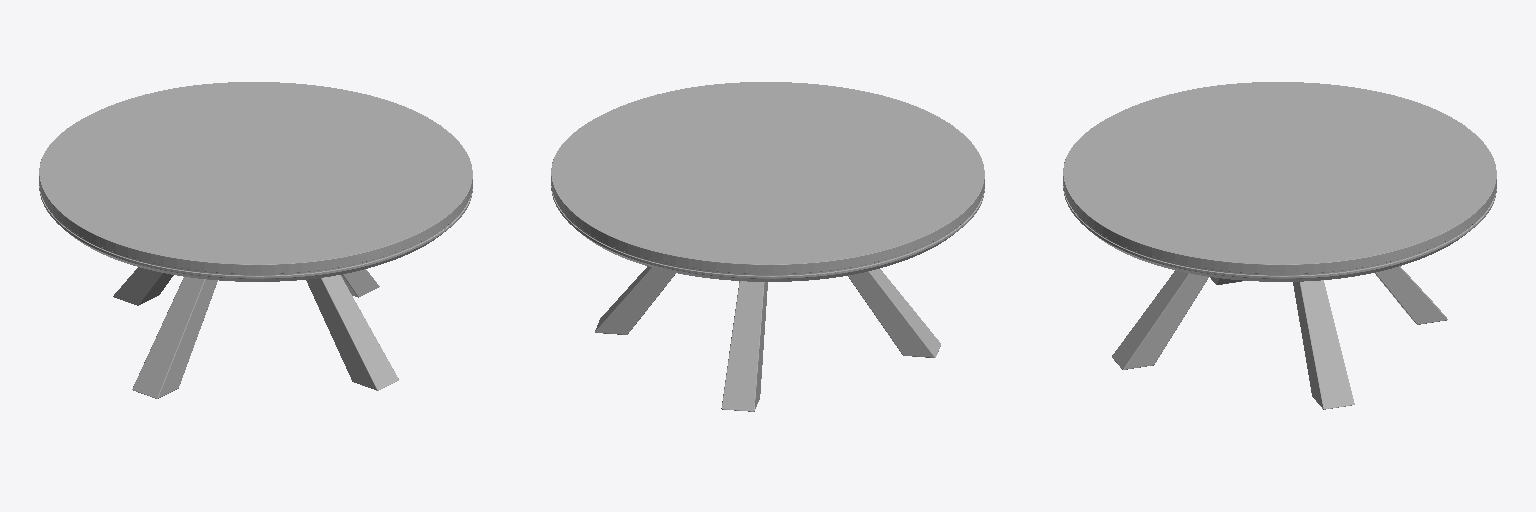
The picture shows the model from 3 angles: view 1: azimuth 30°, elevation 25°; view 2: azimuth 150°, elevation 25°; view 3: azimuth 270°, elevation 25°; orthographic projection.
Visible parts, largest first — view 1: NGon002, Rectangle071, Rectangle069, Rectangle070, Object009, Rectangle072; view 2: NGon002, Rectangle070, Rectangle071, Rectangle072, Object009; view 3: NGon002, Rectangle072, Rectangle069, Rectangle070, Object009.
Part boxes in pixels (bbox=[...]): NGon002: bbox=[39, 82, 472, 278]; Rectangle071: bbox=[132, 277, 217, 398]; Rectangle069: bbox=[306, 275, 398, 390]; Rectangle070: bbox=[113, 267, 173, 305]; Object009: bbox=[66, 231, 441, 281]; Rectangle072: bbox=[341, 269, 379, 297]; NGon002: bbox=[551, 82, 984, 278]; Rectangle070: bbox=[721, 281, 767, 411]; Rectangle071: bbox=[848, 269, 940, 357]; Rectangle072: bbox=[595, 266, 675, 334]; Object009: bbox=[578, 231, 953, 281]; NGon002: bbox=[1063, 82, 1496, 278]; Rectangle072: bbox=[1293, 280, 1354, 409]; Rectangle069: bbox=[1112, 270, 1208, 369]; Rectangle070: bbox=[1375, 266, 1447, 324]; Object009: bbox=[1090, 231, 1465, 281].
Bounding box in the file's own units: 10.68 × 4.51 × 10.7.